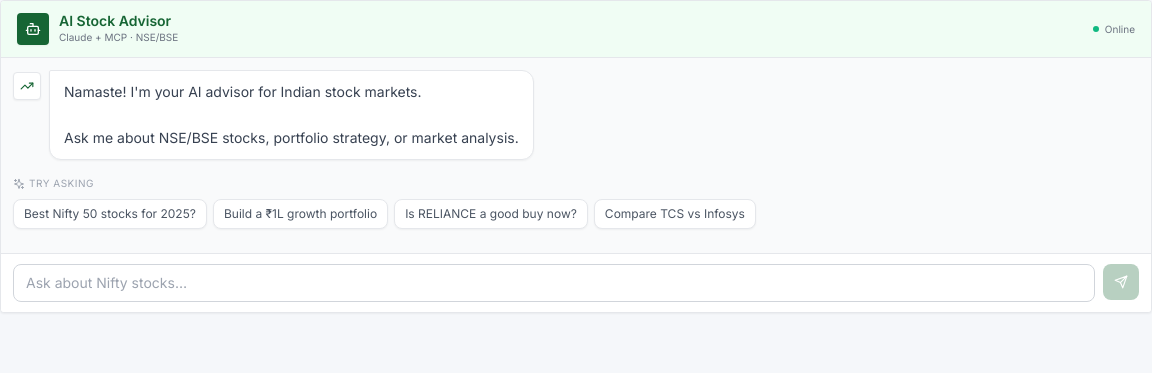
it: AiChat › disables input while loading
In the field with placeholder "Ask about Nifty stocks…": point(554, 283) [13,264,1095,302], type "Loading test"
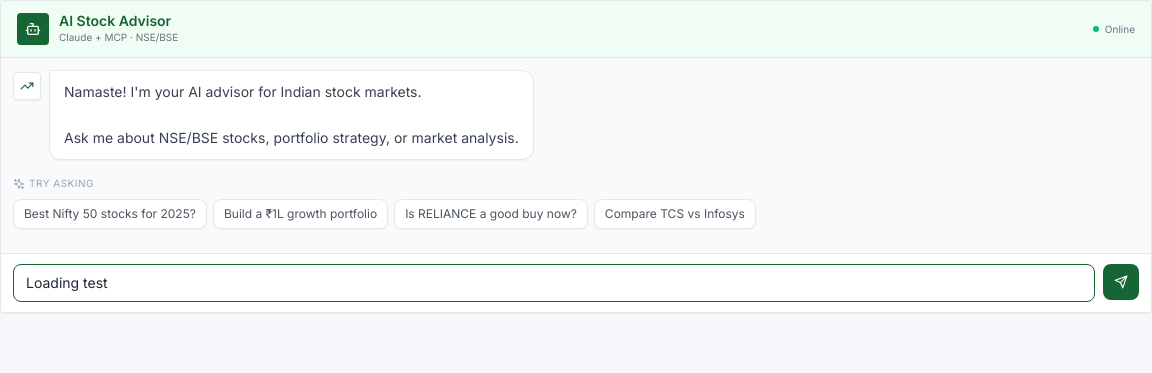
Press Enter
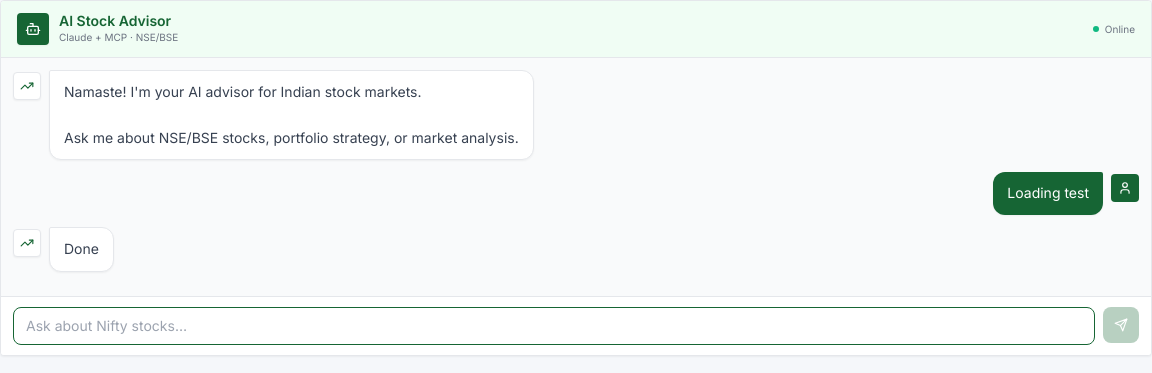
Check: the button named "send" is disabled, box [1103,307,1139,343]
